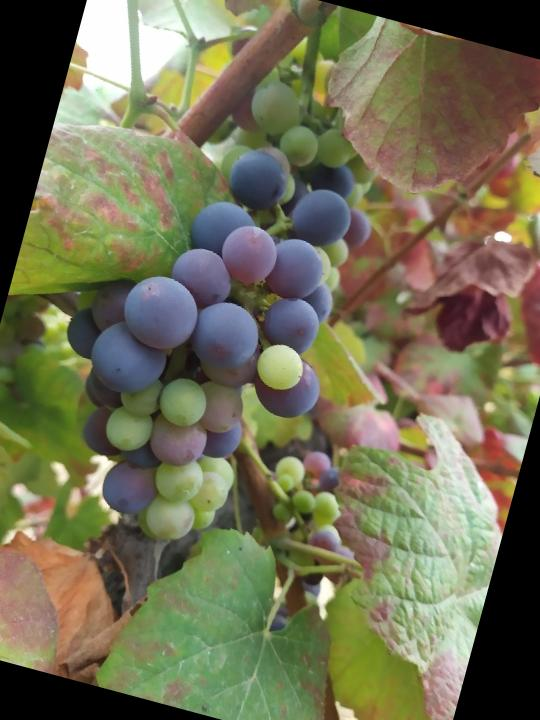grape: (18, 106, 383, 575)
